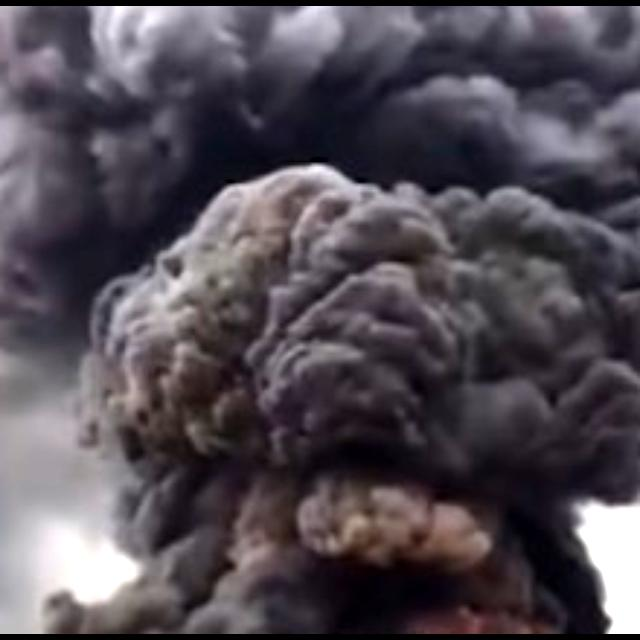smoke: (0, 6, 640, 634), (0, 51, 640, 501)
